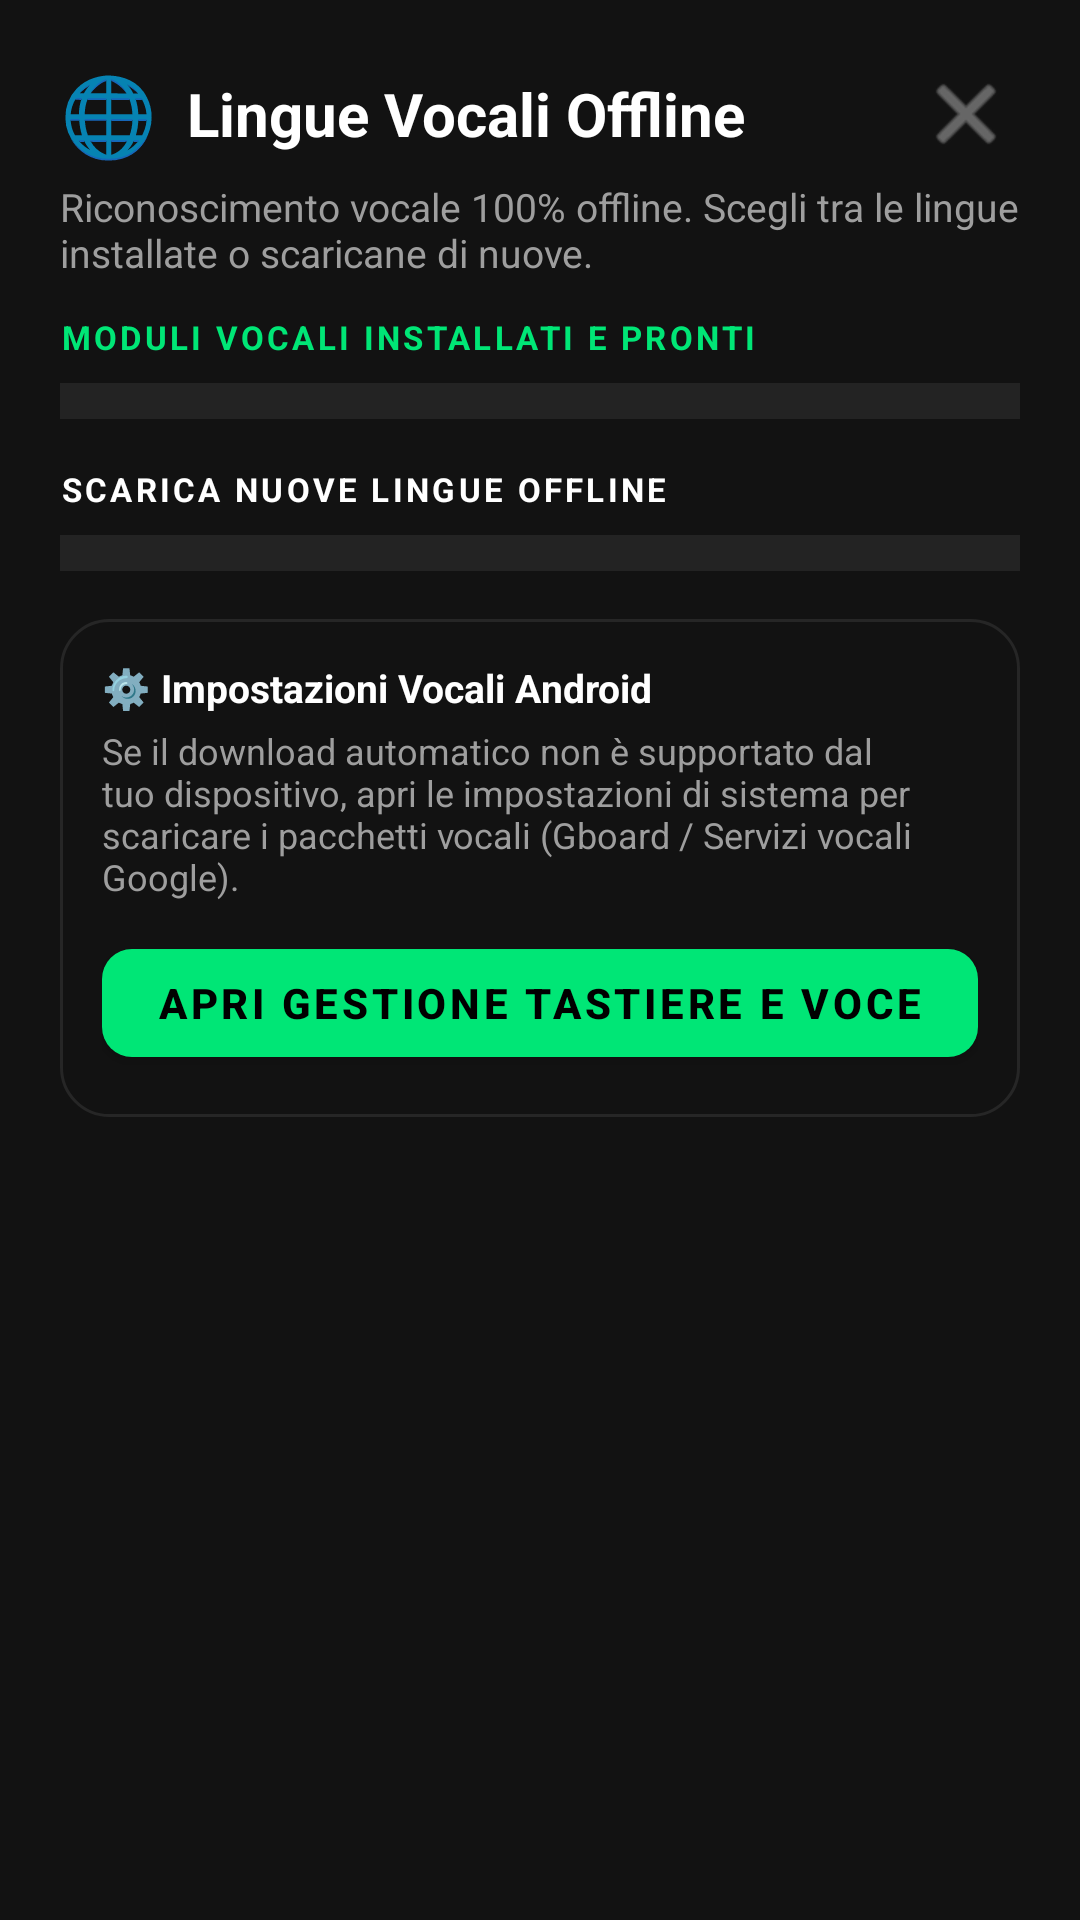

Where to tap for icons on this 1080 x 1920 app screen, as point (x, y):
Chiudi: point (966, 114)
